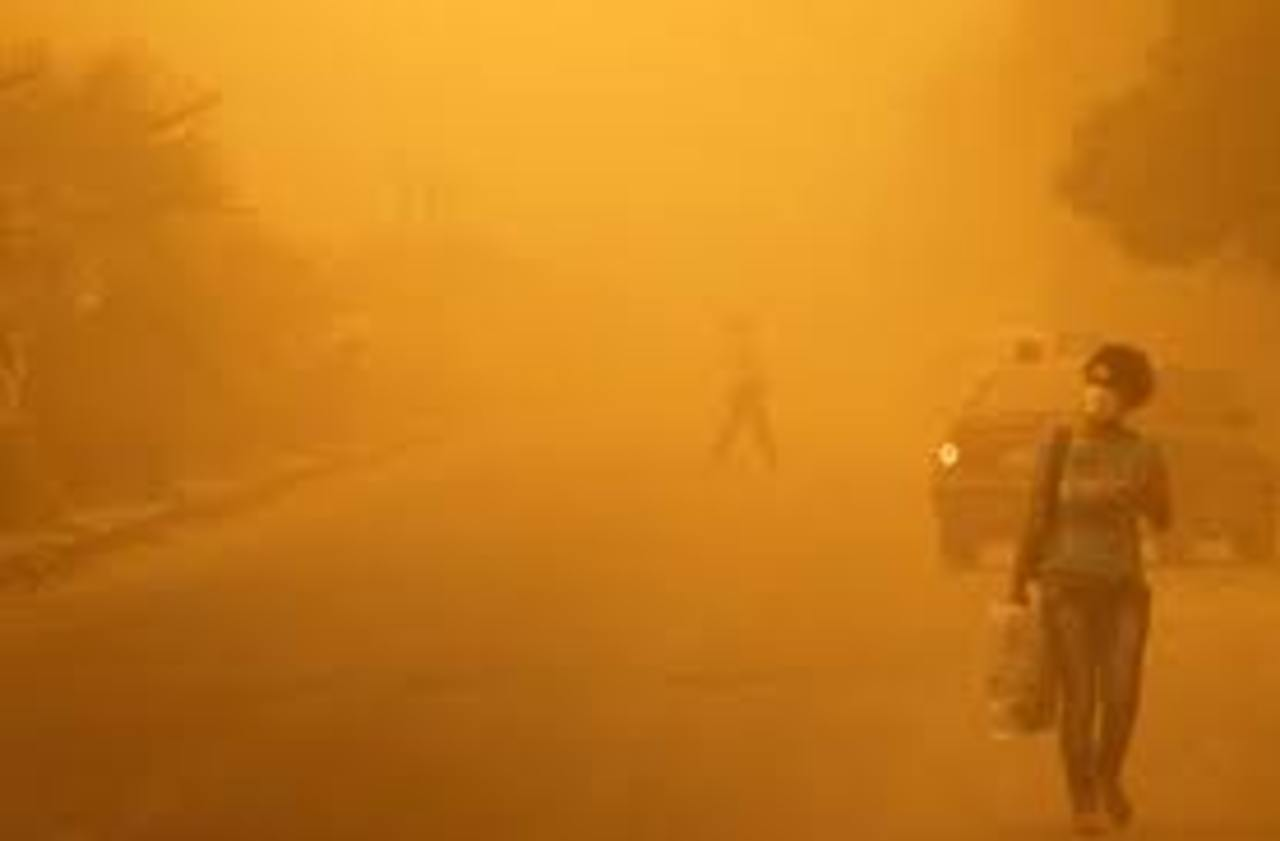car: (933, 358, 1271, 561)
person: (1011, 342, 1169, 835), (697, 316, 780, 475)
